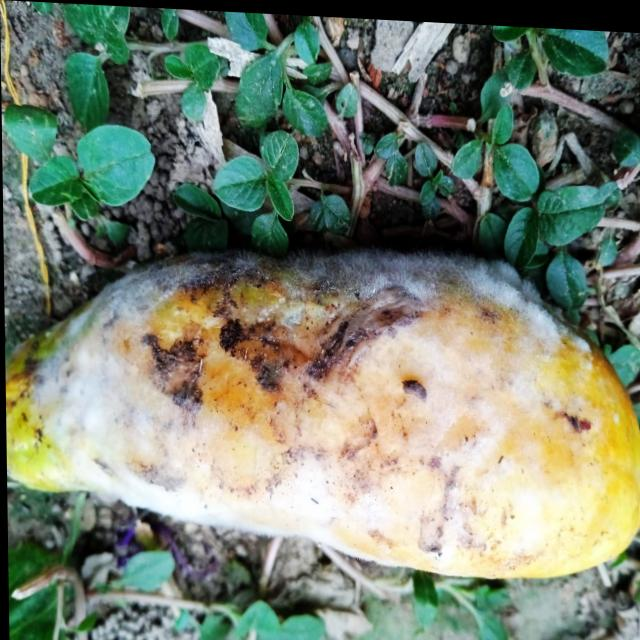Pythium-Fruit-Rot: (34, 233, 595, 574)
